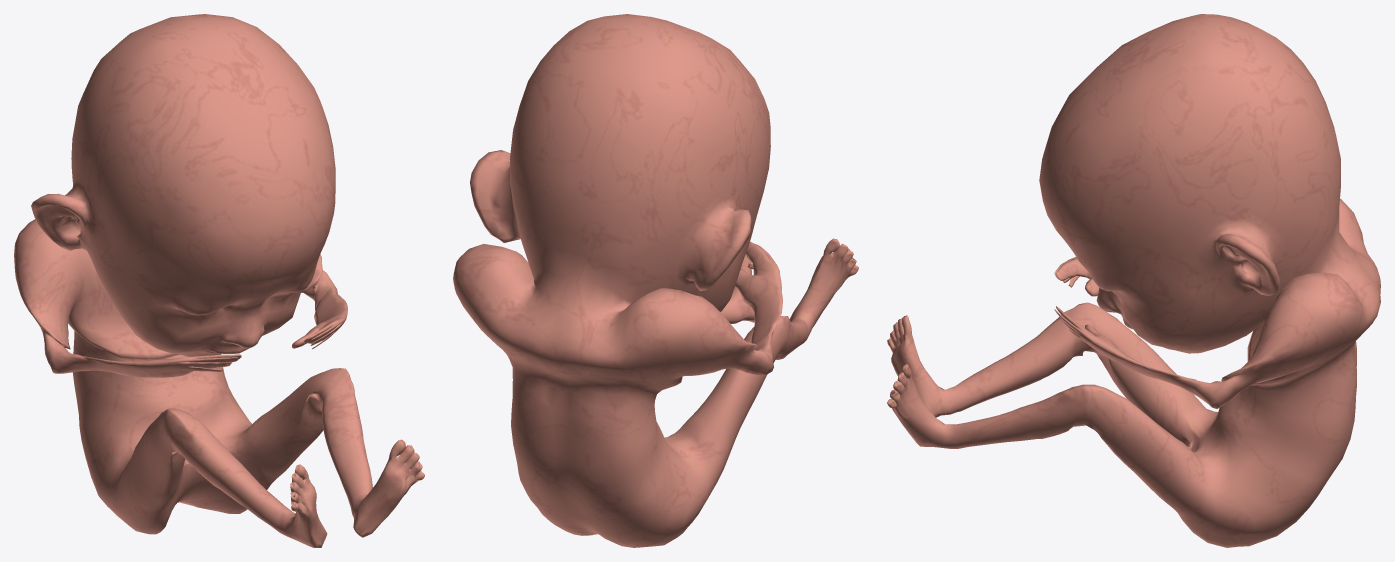
The picture shows the model from 3 angles, left to right: view 1: azimuth 30°, elevation 25°; view 2: azimuth 150°, elevation 25°; view 3: azimuth 270°, elevation 25°; orthographic projection.
Visible parts, largest first — view 1: Baby; view 2: Baby; view 3: Baby.
Boxes of the visible parts, left/top/right/bottom form: Baby: left=14, top=14, right=424, bottom=547; Baby: left=453, top=14, right=858, bottom=547; Baby: left=887, top=14, right=1380, bottom=547.
Bounding box in the file's own units: 0.0351 × 0.0587 × 0.0525.
1 material, 1 textured.
